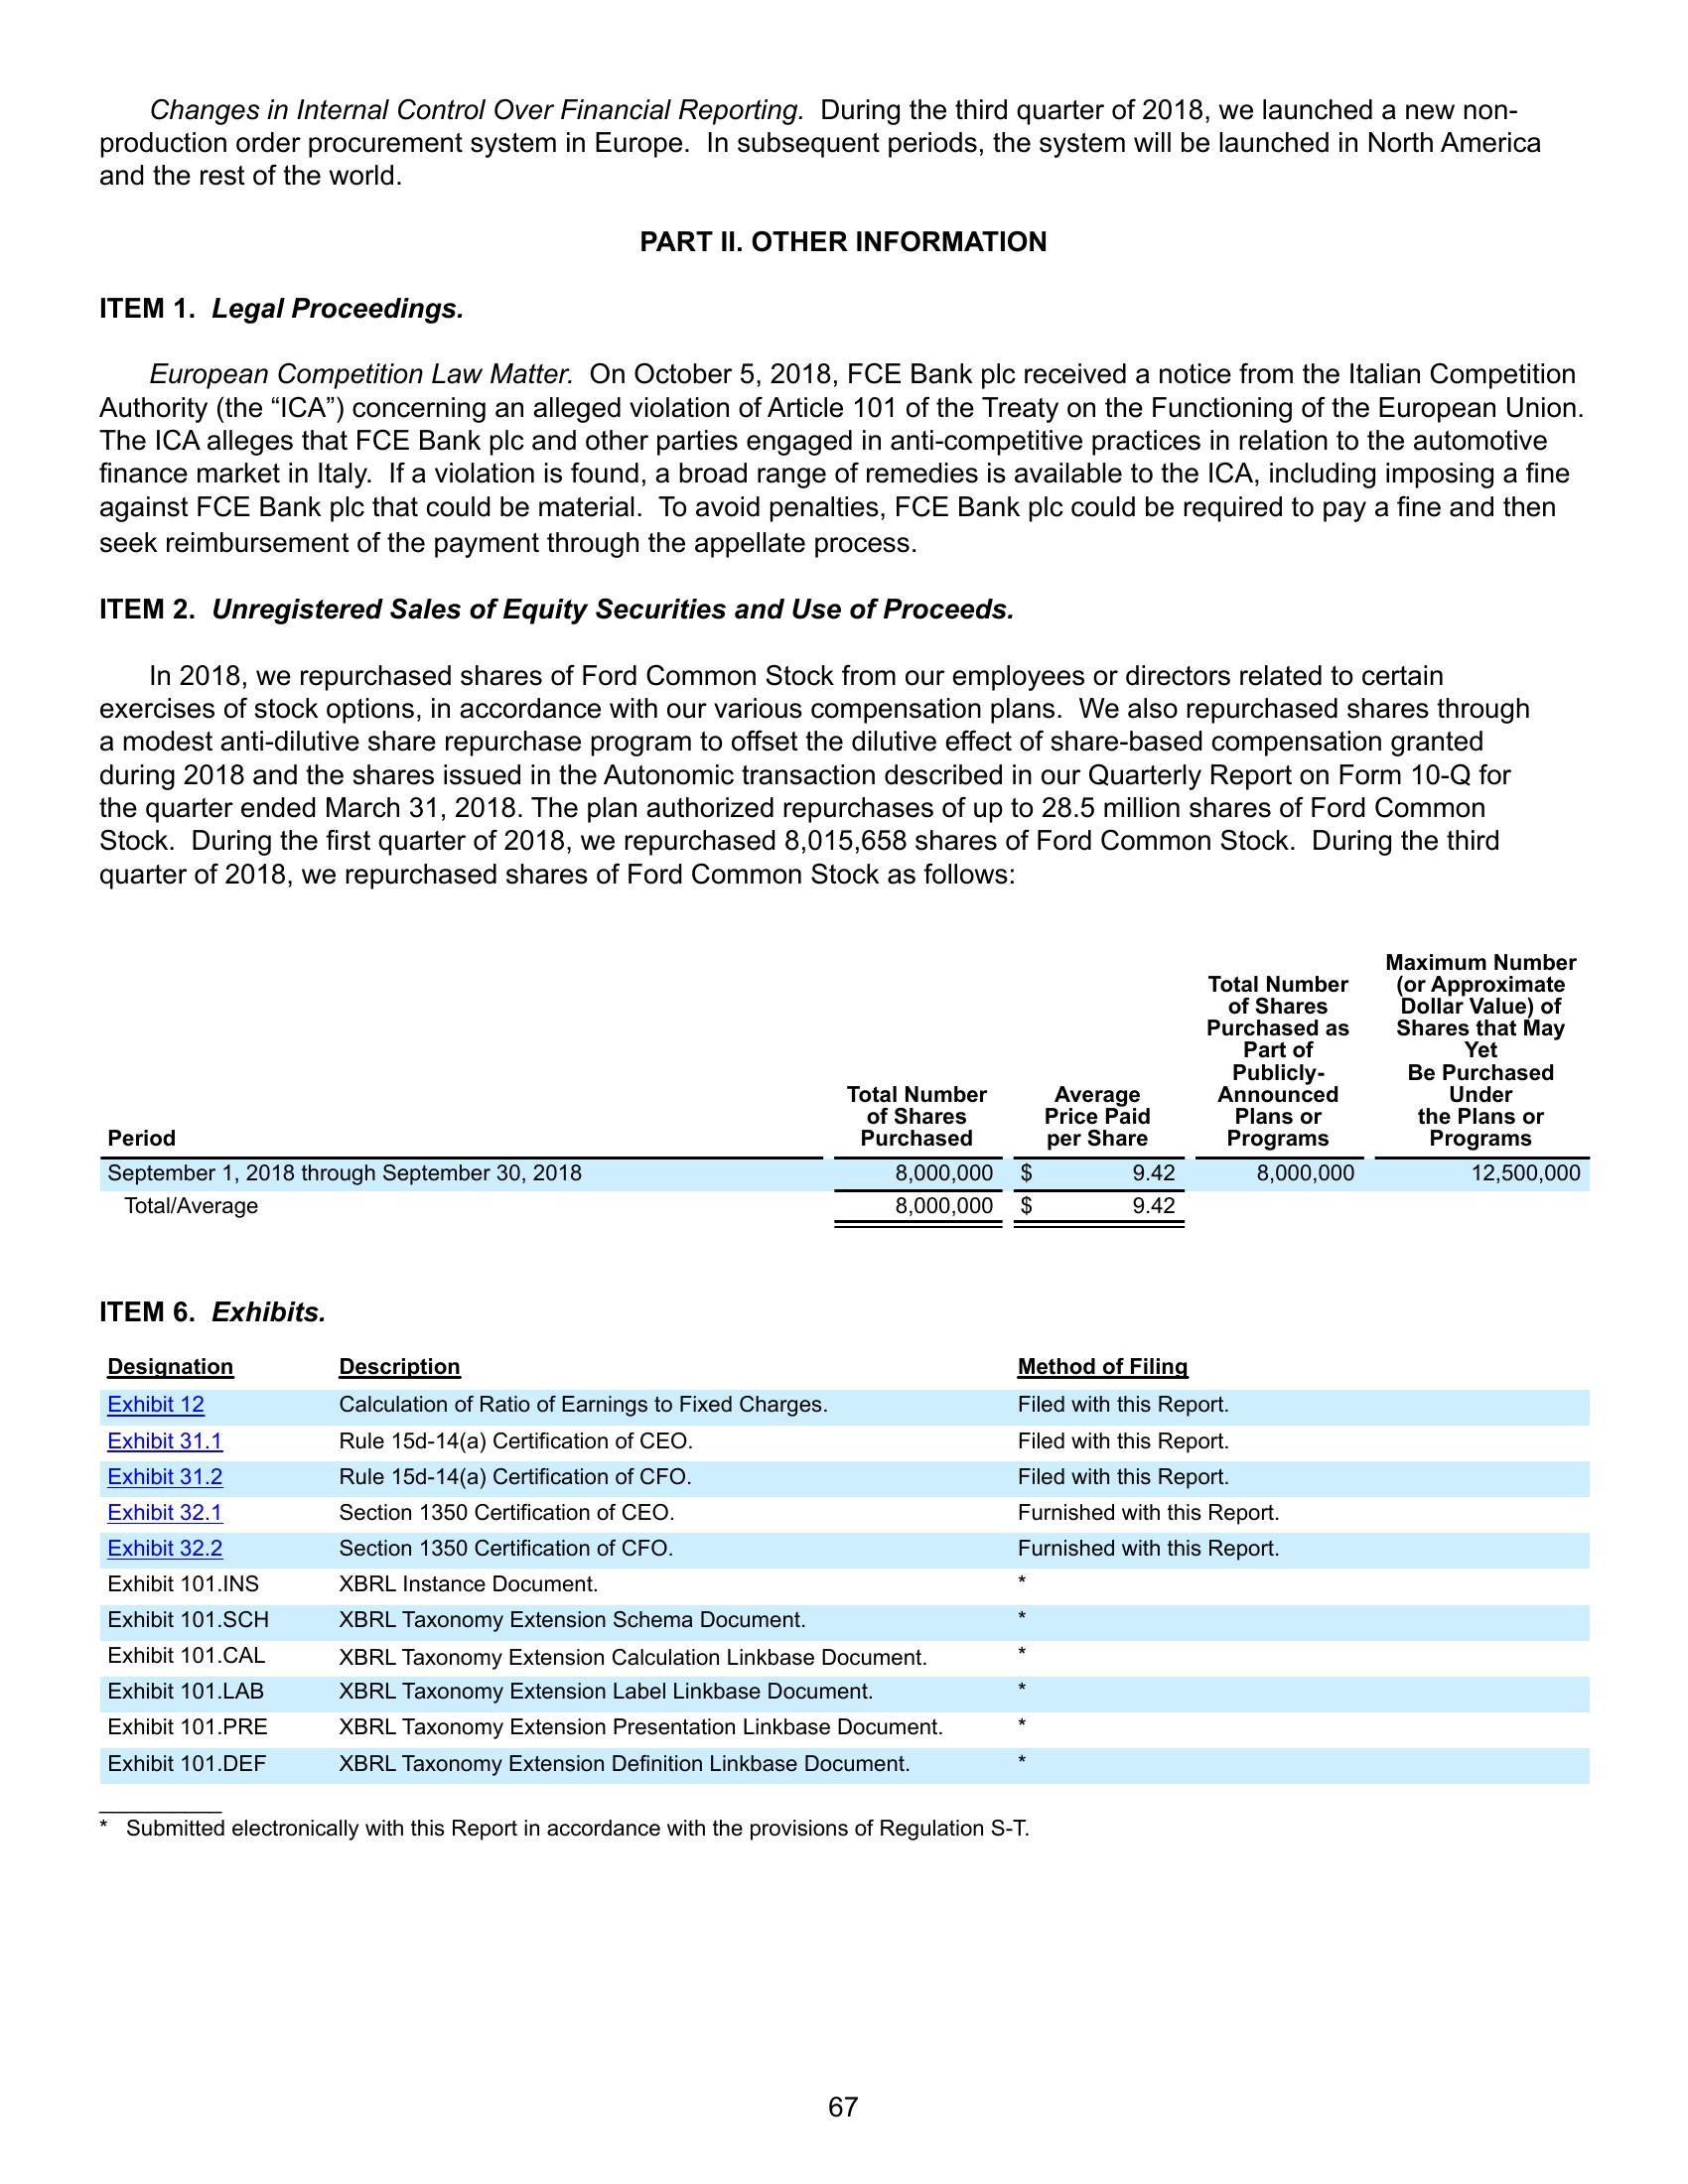table: (98, 945, 1599, 1789)
